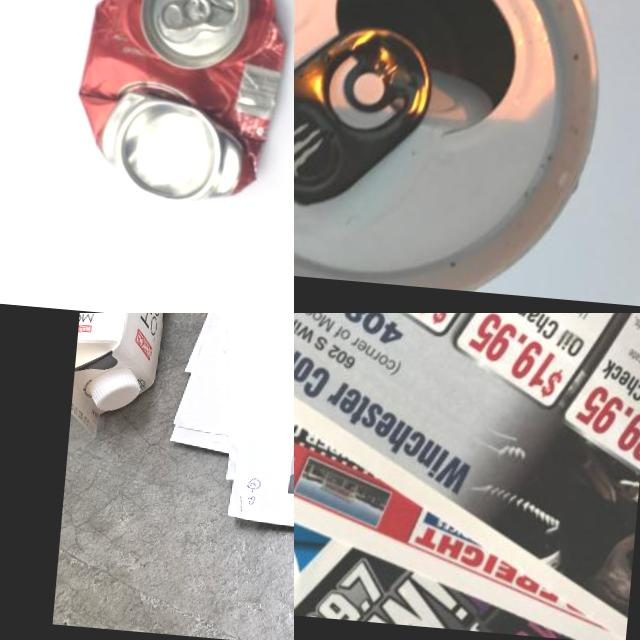aba de lata: (294, 13, 436, 219), (159, 0, 215, 31)
caixinha: (68, 313, 194, 443), (88, 368, 141, 413)
lata: (294, 0, 618, 300), (70, 0, 294, 209)
papel: (294, 313, 640, 640), (164, 313, 294, 558)
